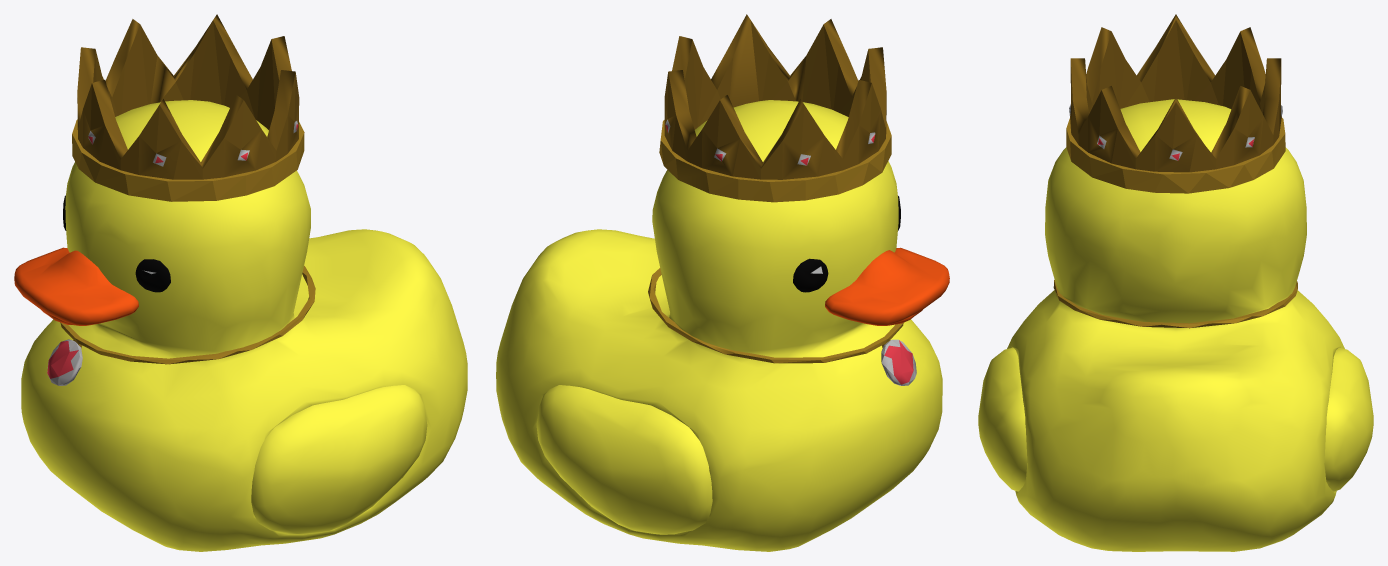
File: duck.glb
3 renders of one model, left to right at view 1: azimuth 30°, elevation 25°; view 2: azimuth 150°, elevation 25°; view 3: azimuth 270°, elevation 25°, orthographic. The views are drawn at different scales.
Parts seen in each view (by area): view 1: Duck; view 2: Duck; view 3: Duck.
Part boxes in pixels (<box>): Duck: <box>14,14,467,551</box>; Duck: <box>496,14,949,551</box>; Duck: <box>978,14,1373,551</box>.
Bounding box in the file's own units: 17.42 × 18.03 × 15.23.
1 material, 1 textured.
